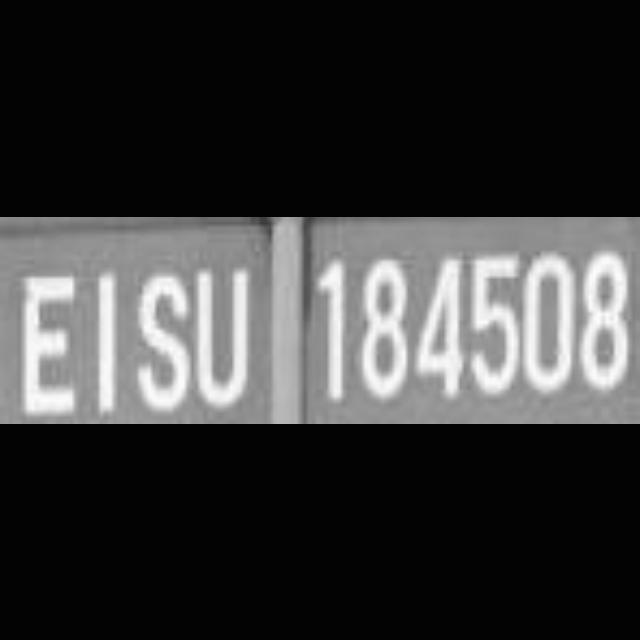0: (522, 246, 576, 396)
1: (307, 251, 358, 421)
4: (414, 250, 466, 406)
5: (469, 248, 523, 402)
8: (577, 243, 633, 397), (357, 253, 411, 404)
e: (9, 268, 86, 424)
i: (91, 270, 123, 420)
s: (133, 262, 193, 422)
u: (193, 260, 257, 416)
